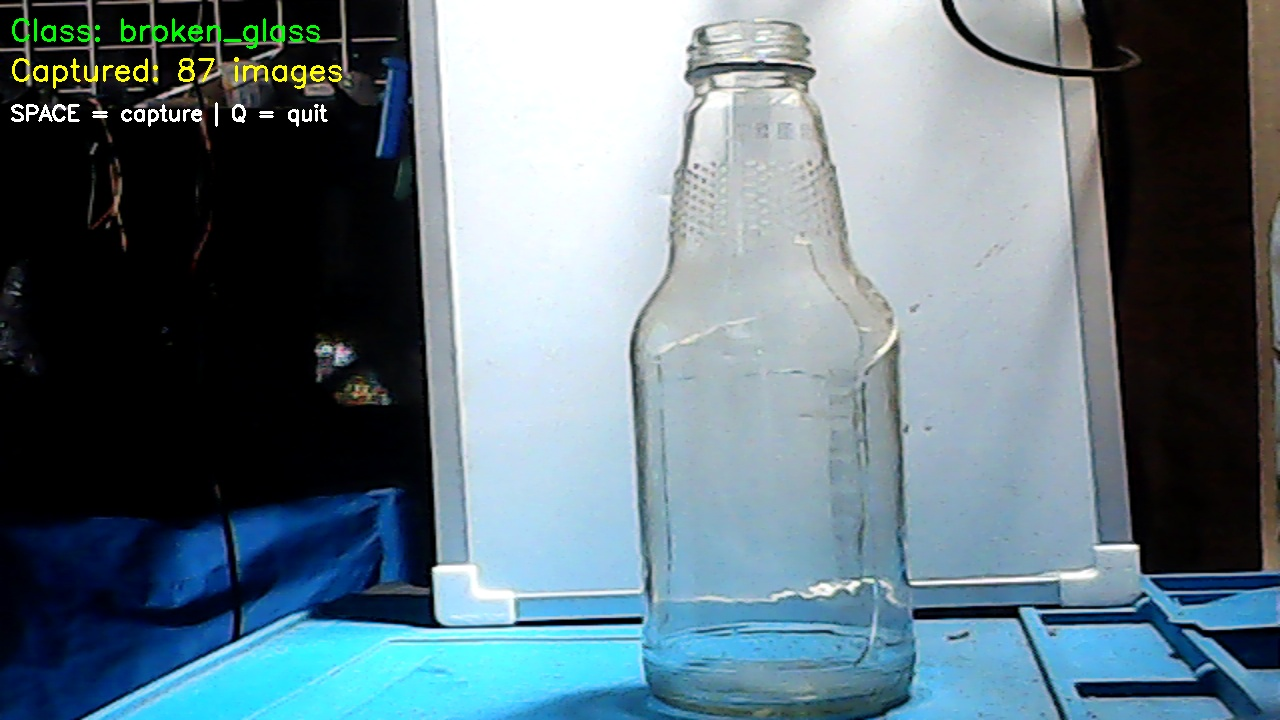broken_glass: (603, 13, 930, 705)
